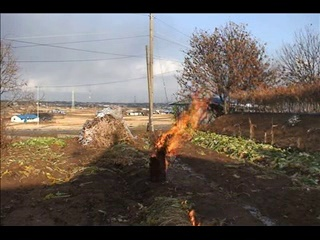fire: (154, 128, 192, 172), (175, 92, 209, 129), (186, 211, 205, 226)
